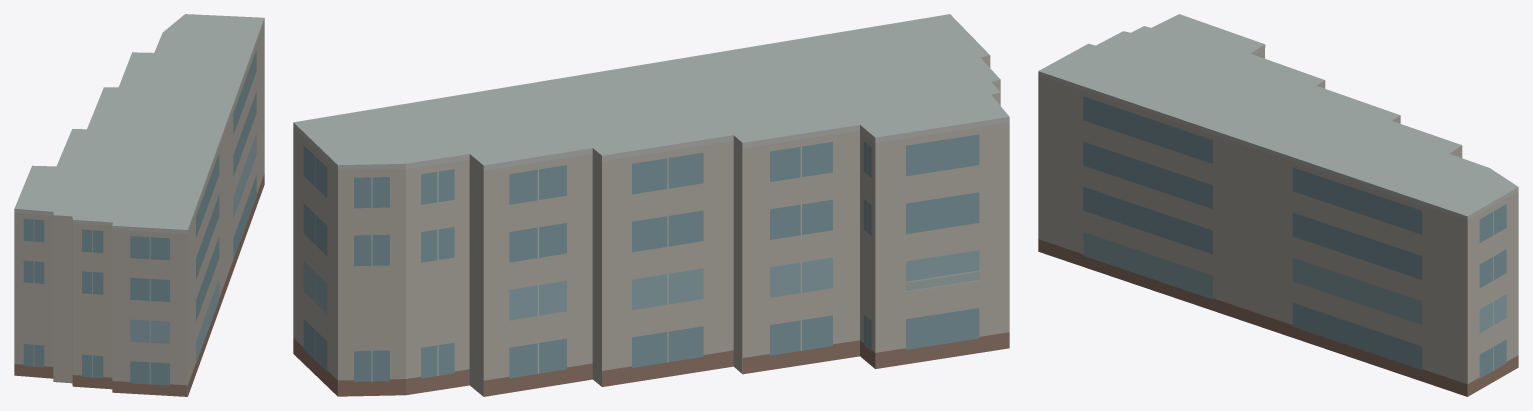
The model's file is survey-upis-32605103.glb.
3 views of the same model, side by side, from view 1: azimuth 30°, elevation 25°; view 2: azimuth 150°, elevation 25°; view 3: azimuth 270°, elevation 25° (orthographic). The views are drawn at different scales.
Parts seen in each view (by area): view 1: survey-upis-32605103.tmp; view 2: survey-upis-32605103.tmp; view 3: survey-upis-32605103.tmp.
Part boxes in pixels (left/top/right/bottom): survey-upis-32605103.tmp: left=14, top=14, right=264, bottom=396; survey-upis-32605103.tmp: left=293, top=14, right=1009, bottom=396; survey-upis-32605103.tmp: left=1038, top=14, right=1518, bottom=396.
Bounding box in the file's own units: 25.01 × 10.4 × 25.09.
